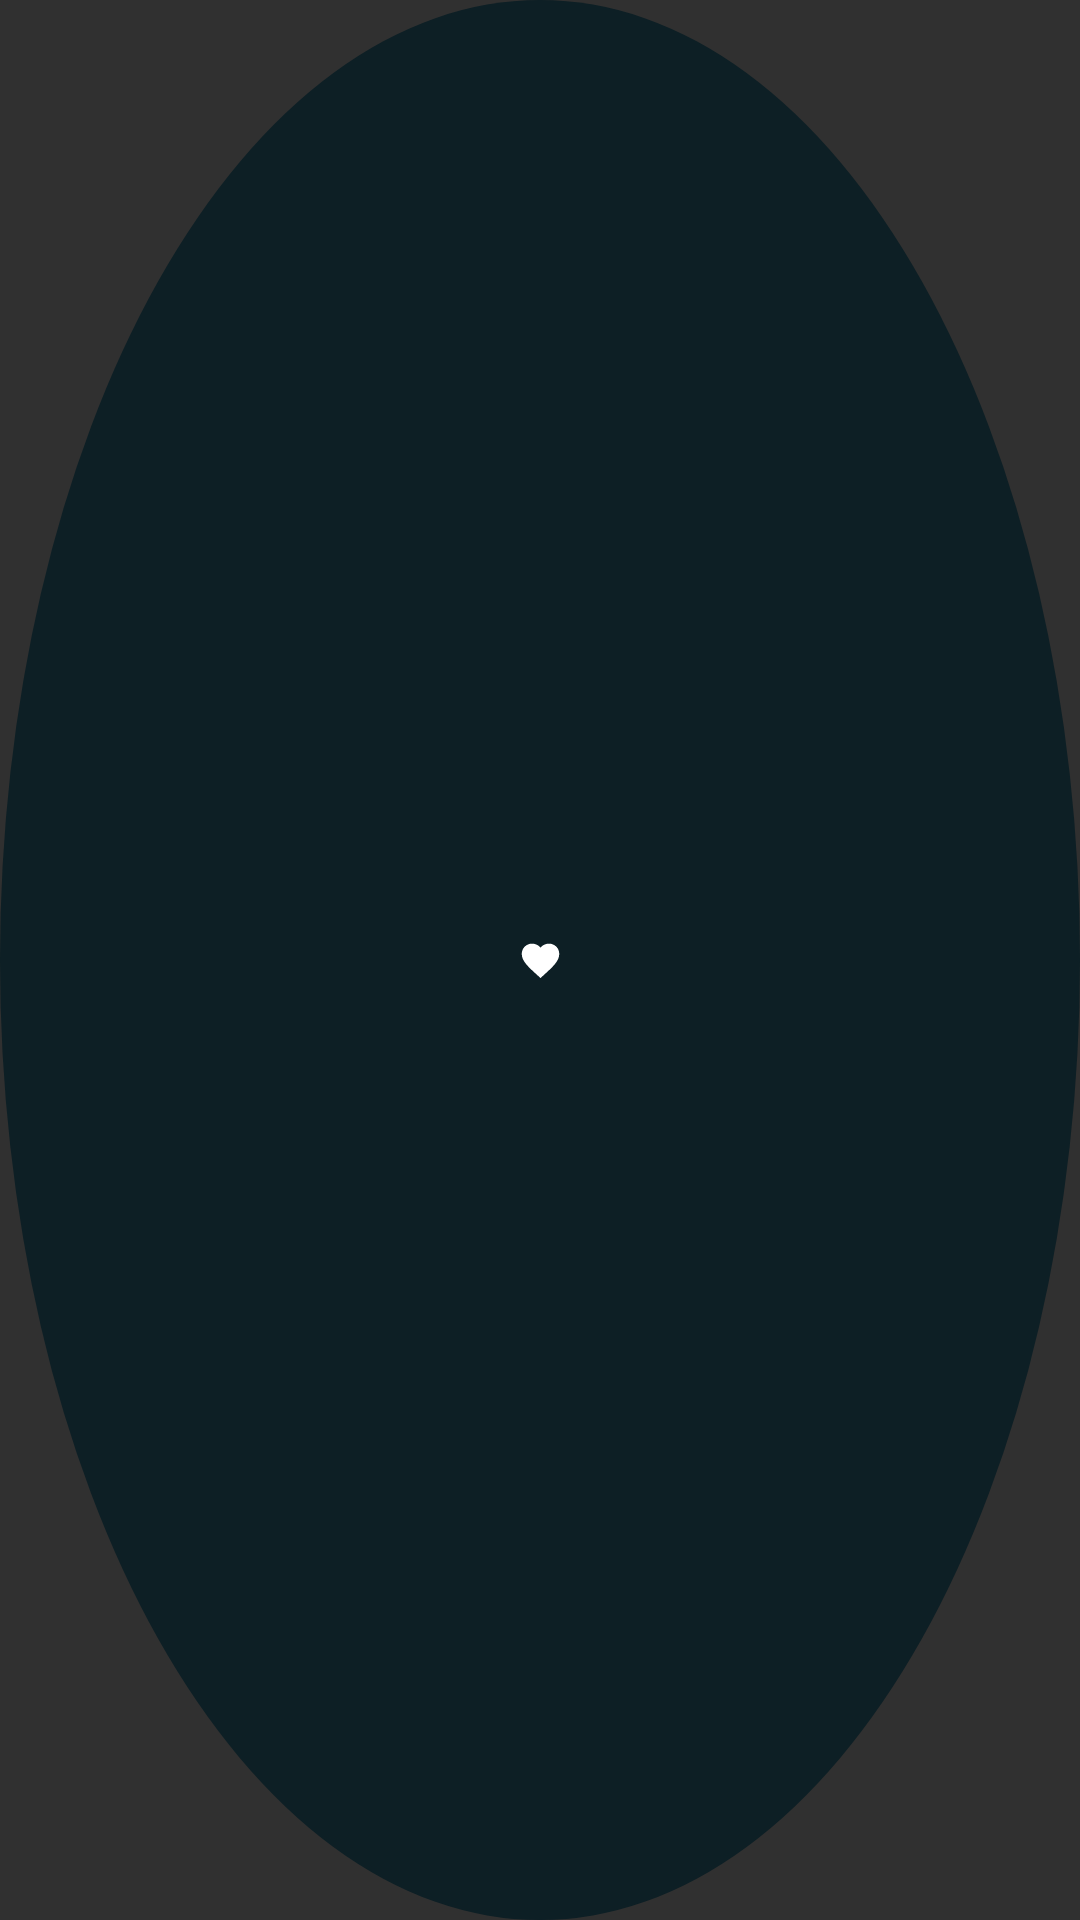

Named icons in this screenshot (1080px×1920px) and their bounding boxes, (x1, y1, x2, y2):
like: (521, 943, 560, 978)
